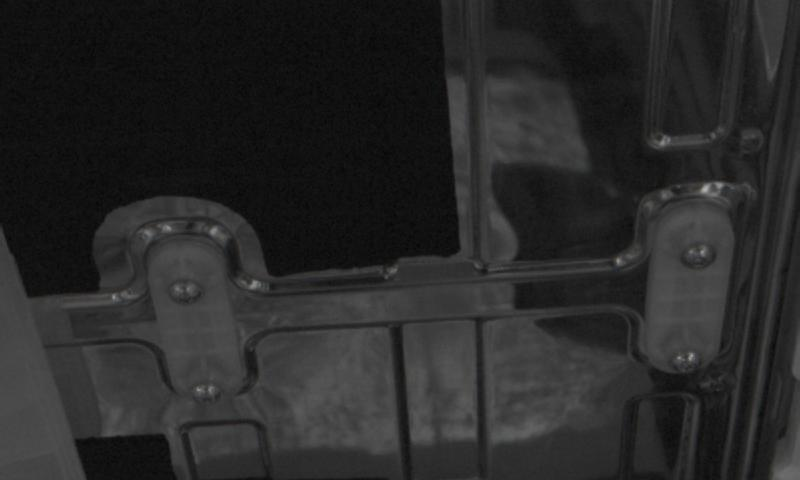vida-ok: (161, 268, 207, 313), (675, 236, 722, 279), (188, 372, 233, 412), (666, 344, 712, 383)
